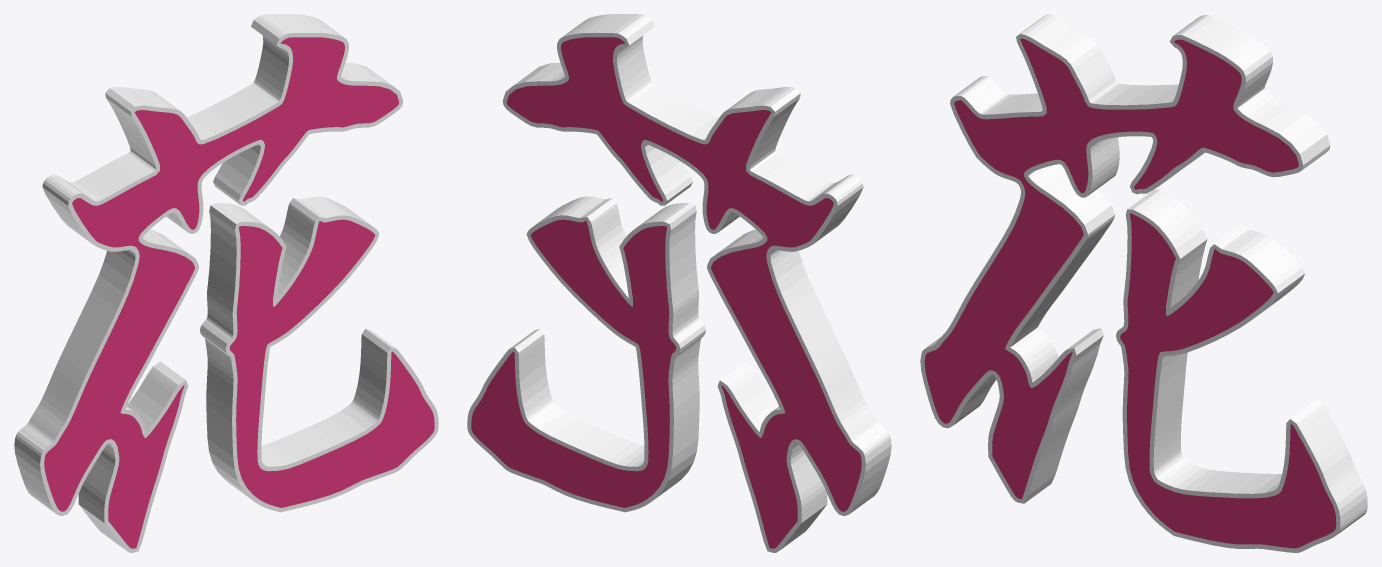
File: model_hana.glb
3 views of the same model, side by side, from view 1: azimuth 30°, elevation 25°; view 2: azimuth 150°, elevation 25°; view 3: azimuth 330°, elevation 25° (orthographic). The views are drawn at different scales.
Parts seen in each view (by area): view 1: TraceGenius Object.001, TraceGenius Object.002; view 2: TraceGenius Object.001, TraceGenius Object.002; view 3: TraceGenius Object.001, TraceGenius Object.002.
Boxes of the visible parts, left/top/right/bottom form: TraceGenius Object.001: left=44, top=37, right=434, bottom=548; TraceGenius Object.002: left=14, top=14, right=438, bottom=552; TraceGenius Object.001: left=471, top=37, right=861, bottom=548; TraceGenius Object.002: left=467, top=14, right=891, bottom=552; TraceGenius Object.001: left=924, top=38, right=1336, bottom=548; TraceGenius Object.002: left=920, top=14, right=1367, bottom=552.
Size of the model in its own units: 2.95 by 3.4 by 0.33.
